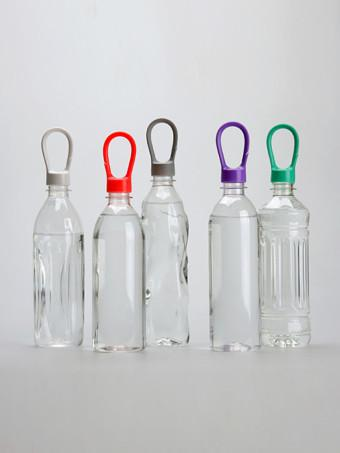bottle: (107, 131, 129, 351), (15, 127, 35, 349), (276, 125, 293, 349), (228, 123, 244, 352), (159, 113, 175, 340)
